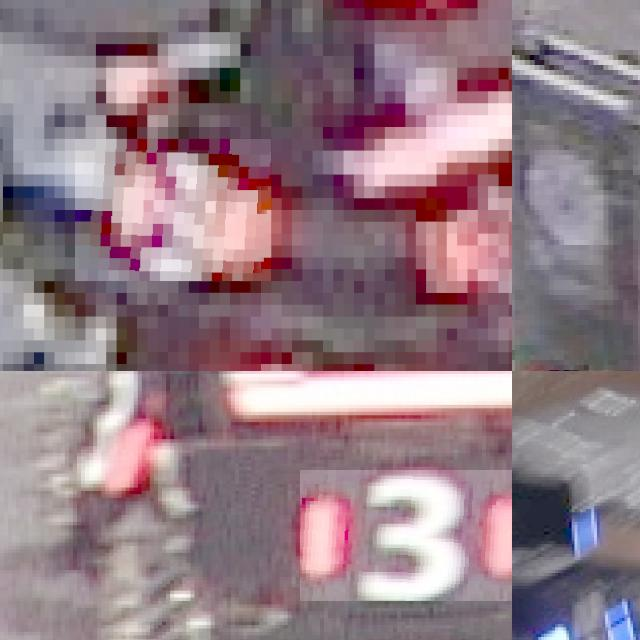B4: (538, 579, 638, 640)
R3: (299, 470, 512, 601), (76, 139, 272, 281)
